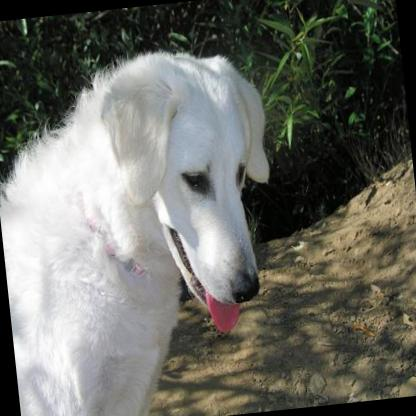kuvasz: (0, 39, 295, 416)
